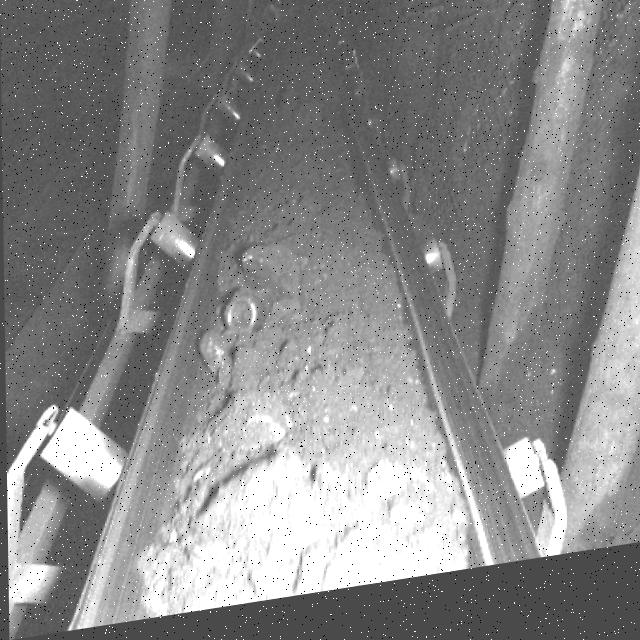Other_garbage: (225, 304, 257, 345)
large_sized_coal: (193, 454, 305, 536), (230, 248, 306, 314)
